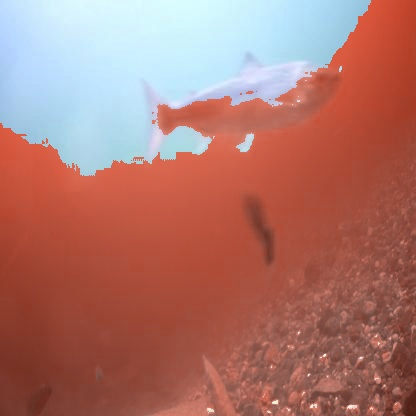salmon: (136, 47, 344, 161)
